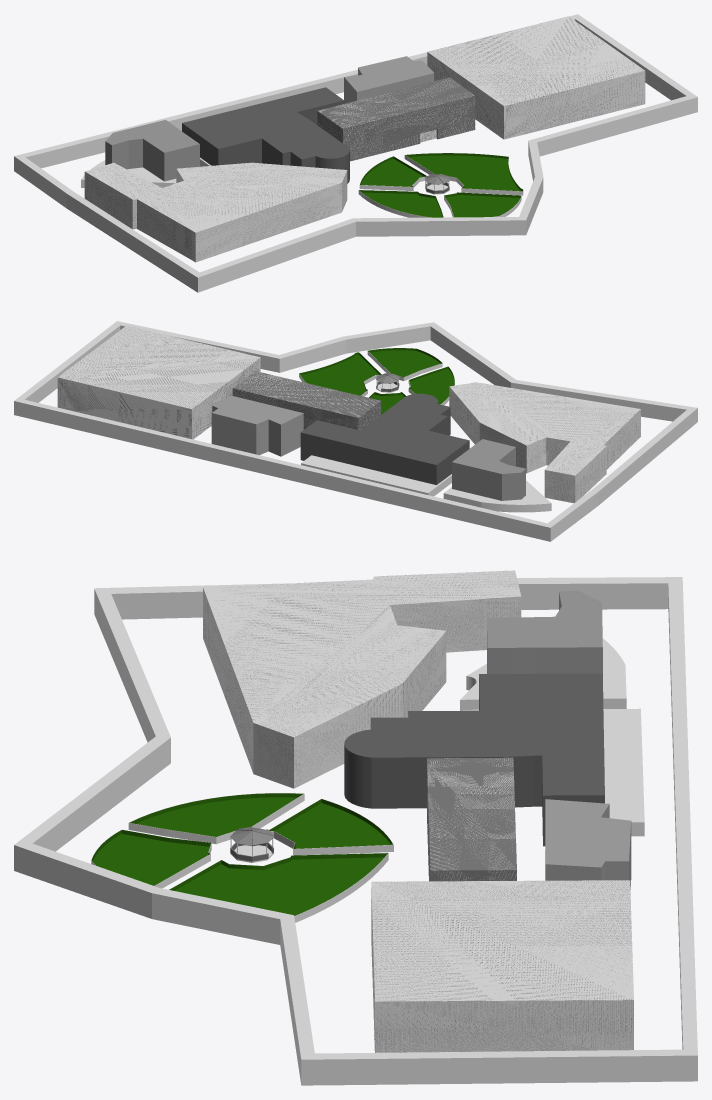
File: city.dae
The picture shows the model from 3 angles, top to bottom: view 1: azimuth 30°, elevation 25°; view 2: azimuth 150°, elevation 25°; view 3: azimuth 270°, elevation 25°; orthographic projection. The views are drawn at different scales.
Parts seen in each view (by area): view 1: instance_1, instance_0, instance_7, instance_10, instance_2, instance_9, instance_0.001, instance_6.001, instance_8, instance_5.001, instance_3.001, instance_4.001 (+2 smaller); view 2: instance_0, instance_7, instance_1, instance_10, instance_0.001, instance_2, instance_8, instance_9, instance_6.001, instance_11, instance_12, instance_5.001 (+2 smaller); view 3: instance_7, instance_1, instance_0, instance_10, instance_2, instance_0.001, instance_6.001, instance_9, instance_8, instance_11, instance_3.001, instance_5.001 (+5 smaller).
Boxes of the visible parts, left/top/right/bottom form: instance_1: left=84, top=162, right=347, bottom=262; instance_0: left=14, top=14, right=697, bottom=292; instance_7: left=427, top=16, right=645, bottom=139; instance_10: left=182, top=87, right=349, bottom=183; instance_2: left=317, top=77, right=475, bottom=161; instance_9: left=105, top=120, right=199, bottom=181; instance_0.001: left=26, top=19, right=685, bottom=181; instance_6.001: left=405, top=153, right=523, bottom=191; instance_8: left=344, top=56, right=434, bottom=103; instance_5.001: left=444, top=192, right=521, bottom=217; instance_3.001: left=359, top=190, right=443, bottom=217; instance_4.001: left=360, top=156, right=426, bottom=186; instance_0: left=14, top=321, right=697, bottom=541; instance_7: left=57, top=325, right=260, bottom=439; instance_1: left=449, top=382, right=640, bottom=503; instance_10: left=300, top=393, right=469, bottom=484; instance_0.001: left=25, top=325, right=686, bottom=421; instance_2: left=232, top=371, right=381, bottom=430; instance_8: left=211, top=395, right=303, bottom=456; instance_9: left=452, top=439, right=525, bottom=500; instance_6.001: left=299, top=352, right=381, bottom=395; instance_11: left=301, top=455, right=451, bottom=496; instance_12: left=443, top=480, right=551, bottom=512; instance_5.001: left=368, top=348, right=442, bottom=377; instance_7: left=371, top=880, right=633, bottom=1052; instance_1: left=203, top=570, right=521, bottom=788; instance_0: left=14, top=577, right=697, bottom=1085; instance_10: left=344, top=673, right=604, bottom=846; instance_2: left=427, top=757, right=516, bottom=881; instance_0.001: left=33, top=583, right=683, bottom=1049; instance_6.001: left=169, top=853, right=387, bottom=915; instance_9: left=487, top=590, right=602, bottom=673; instance_8: left=545, top=799, right=631, bottom=889; instance_11: left=463, top=708, right=644, bottom=836; instance_3.001: left=129, top=793, right=303, bottom=836; instance_5.001: left=91, top=830, right=210, bottom=885.
Bounding box in the file's own units: 68.03 × 40.74 × 4.19.
